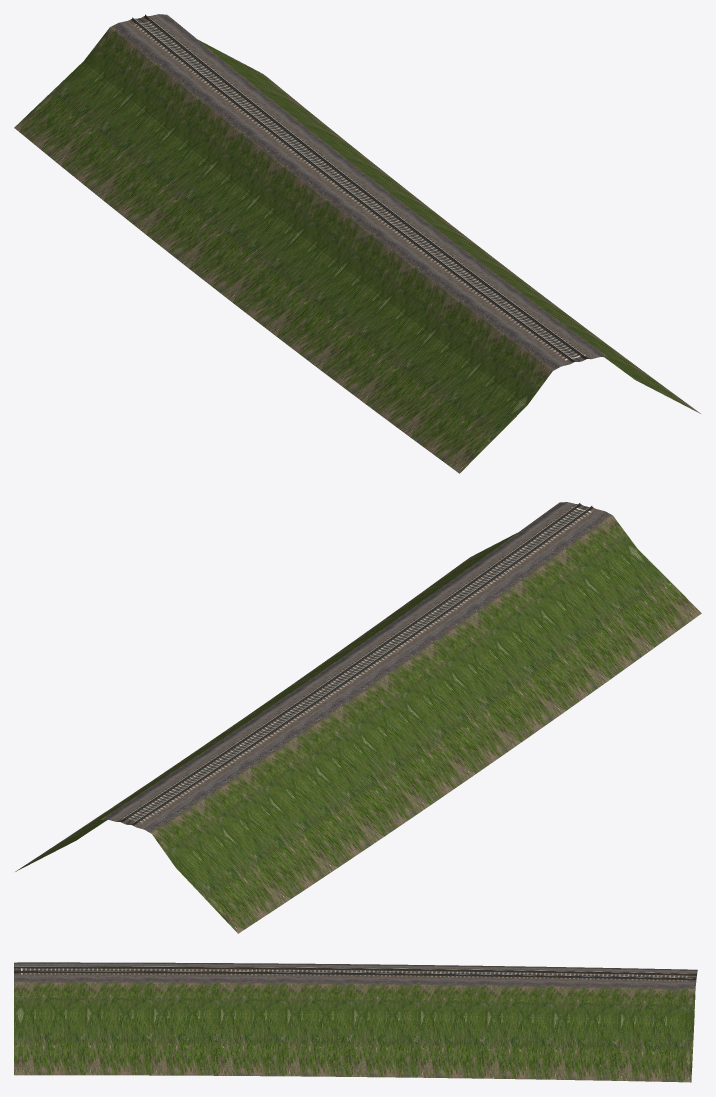
Rendered from tracks_1track2000r.gltf.
3 renders of one model, top to bottom at view 1: azimuth 30°, elevation 25°; view 2: azimuth 150°, elevation 25°; view 3: azimuth 270°, elevation 25°, orthographic. The views are drawn at different scales.
Parts seen in each view (by area): view 1: tracks_1track2000r; view 2: tracks_1track2000r; view 3: tracks_1track2000r.
Part boxes in pixels (left/top/right/bottom): tracks_1track2000r: left=14, top=14, right=700, bottom=473; tracks_1track2000r: left=15, top=502, right=701, bottom=933; tracks_1track2000r: left=14, top=962, right=697, bottom=1082.
Bounding box in the file's own units: 33.43 × 10.36 × 103.
Materials: 1 (1 with a texture image).
